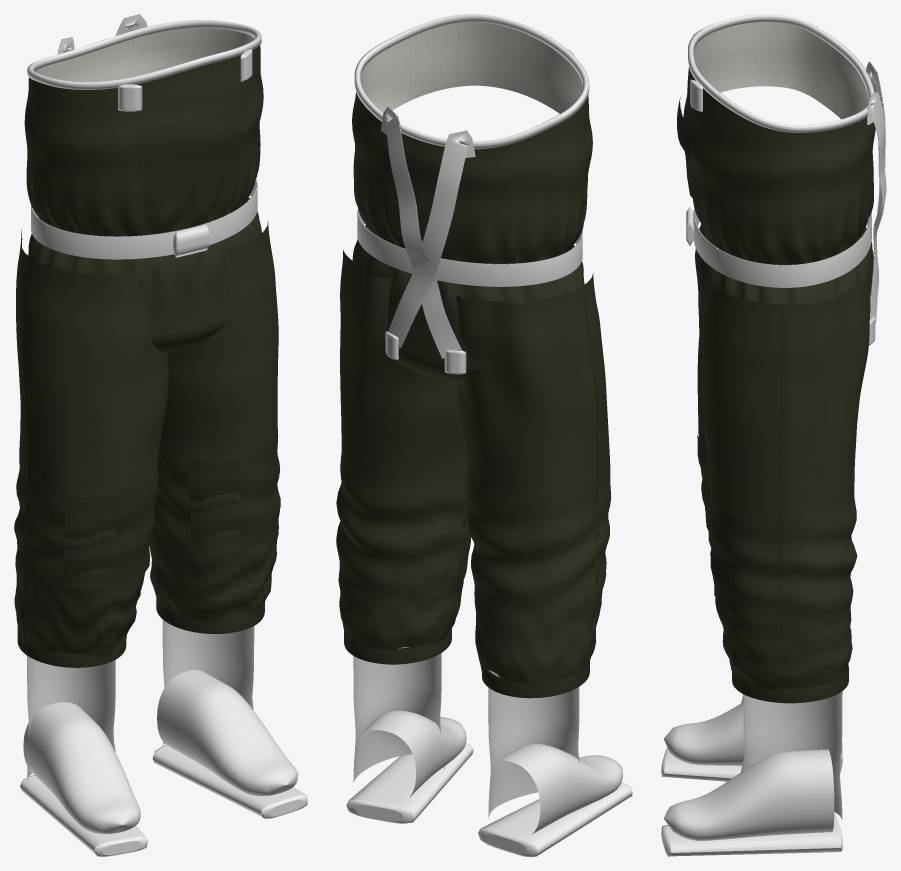
Rendered from wear_waders.hero.glb.
The picture shows the model from 3 angles, left to right: view 1: azimuth 30°, elevation 25°; view 2: azimuth 150°, elevation 25°; view 3: azimuth 270°, elevation 25°; orthographic projection.
Parts seen in each view (by area): view 1: Tool; view 2: Tool; view 3: Tool.
Part boxes in pixels (bbox=[...]): Tool: bbox=[14, 14, 307, 856]; Tool: bbox=[336, 14, 632, 856]; Tool: bbox=[661, 14, 886, 856].
Size of the model in its own units: 0.4426 by 1.31 by 0.3496.
7 materials, 7 textured.
